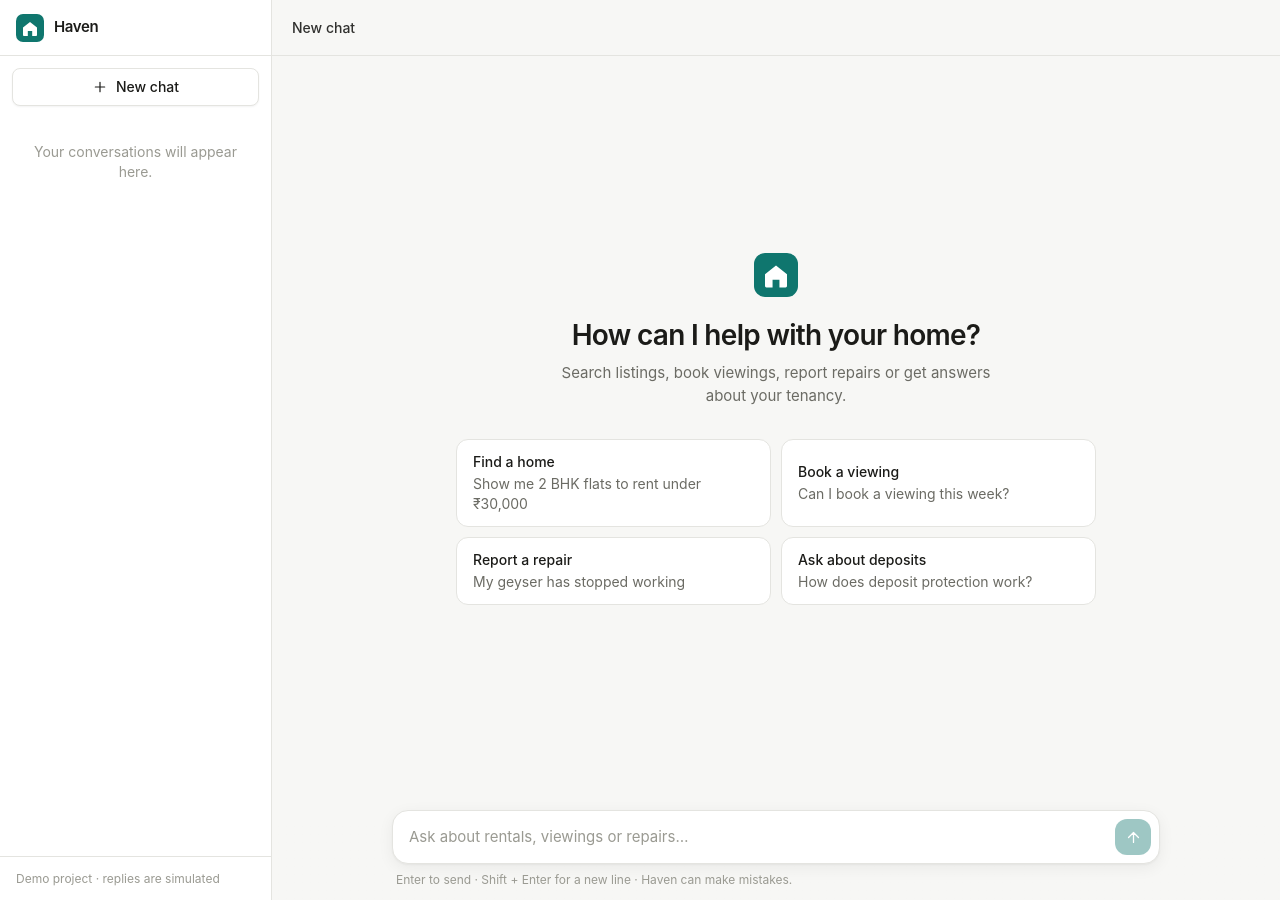
Test case: App › sends on Enter, streams the reply and adds the chat to the sidebar
Type "Find me a flat" into the text box named "message haven" at (758, 837), box [409,819,1107,855]
Then press Enter
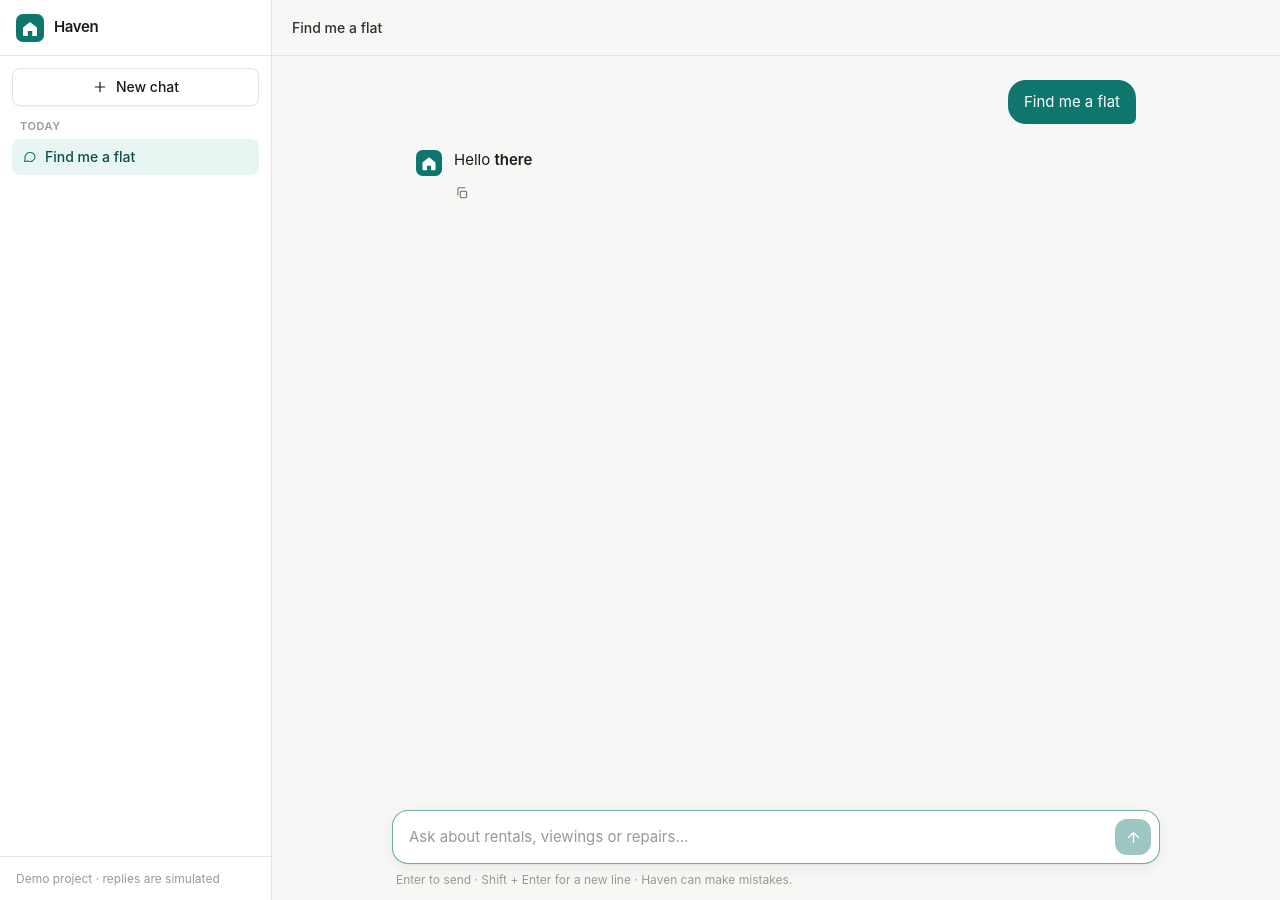
Expected: the 1st text "Find me a flat" is shown, [1008,80,1136,124]
Expected: the text "there" is shown, [494,150,532,169]
Expected: the navigation bar named "conversations" shows "Find me a flat", [12,138,259,174]
